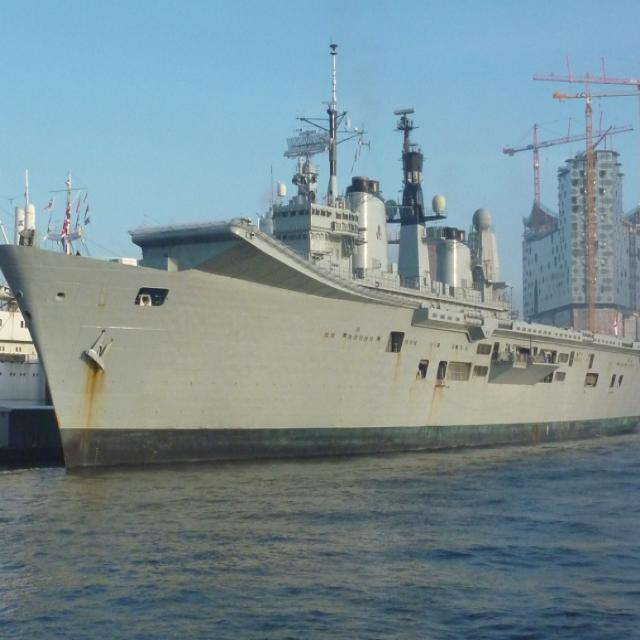Portanaves: (1, 126, 640, 481)
